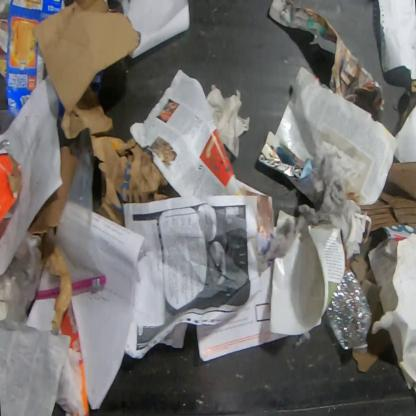cardboard: (59, 83, 171, 227), (31, 0, 141, 116), (349, 252, 393, 374), (28, 145, 76, 238), (357, 161, 415, 233), (0, 154, 22, 228), (400, 79, 415, 129), (91, 70, 104, 99)
metal: (0, 138, 11, 154)
rigid_plastic: (326, 268, 372, 354)
soft_plastic: (55, 127, 108, 293), (0, 227, 58, 328), (44, 244, 73, 330), (35, 268, 59, 300)
